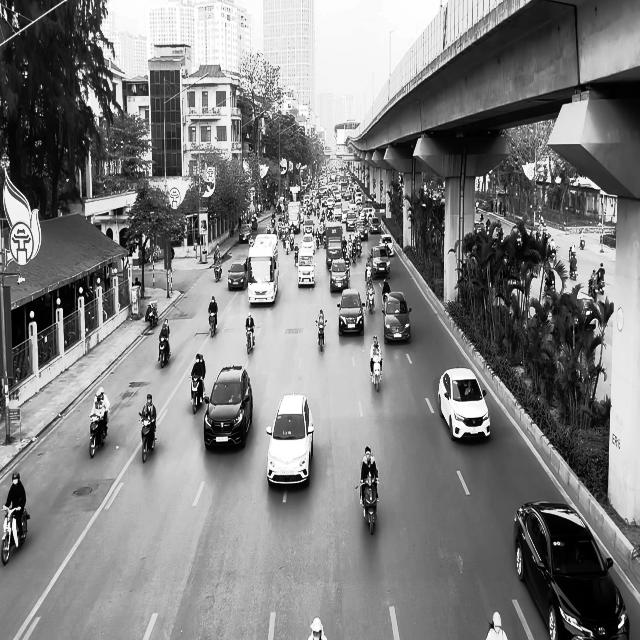car: (513, 500, 630, 640), (266, 392, 314, 487), (204, 364, 252, 450), (438, 367, 490, 441), (381, 291, 412, 343), (336, 289, 364, 336), (297, 250, 315, 288), (227, 260, 247, 290)
motorbike: (1, 504, 30, 566), (359, 474, 379, 535), (138, 411, 156, 462), (89, 410, 108, 458), (190, 374, 205, 414), (158, 335, 171, 367), (371, 356, 382, 391), (147, 302, 158, 328), (316, 321, 325, 351), (245, 327, 255, 353), (208, 312, 217, 337), (366, 289, 375, 314), (214, 260, 222, 282), (569, 260, 577, 279)
truck: (246, 234, 278, 305)
